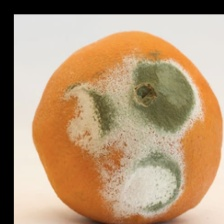orange: (28, 16, 189, 178)
